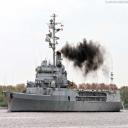Portanaves: (3, 9, 126, 115)
